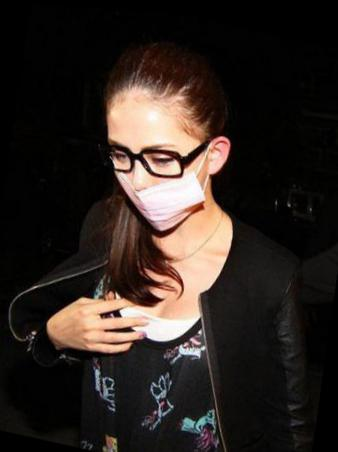WRONG: (100, 105, 207, 240)
